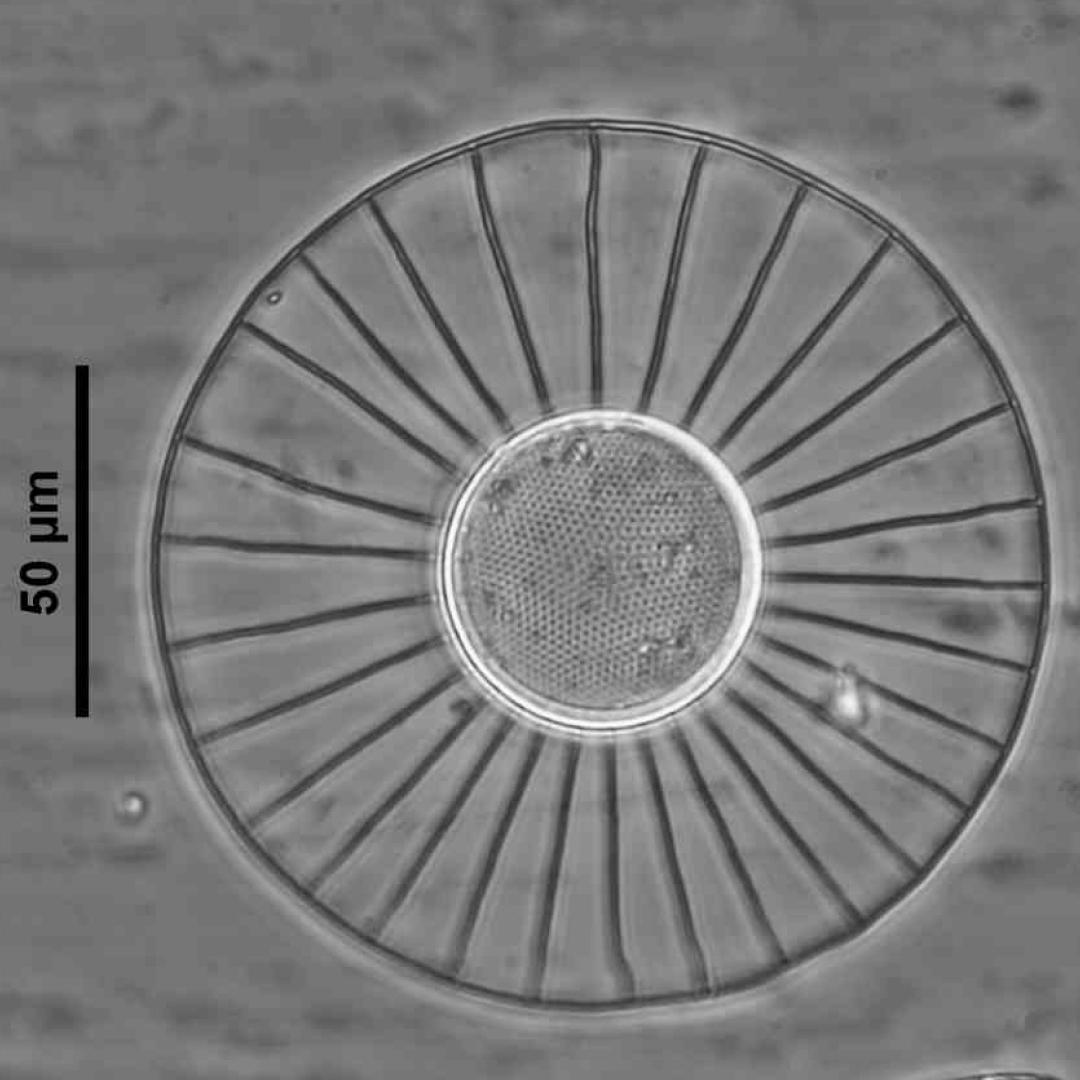planktoniella_sol: (152, 120, 1049, 1009)
